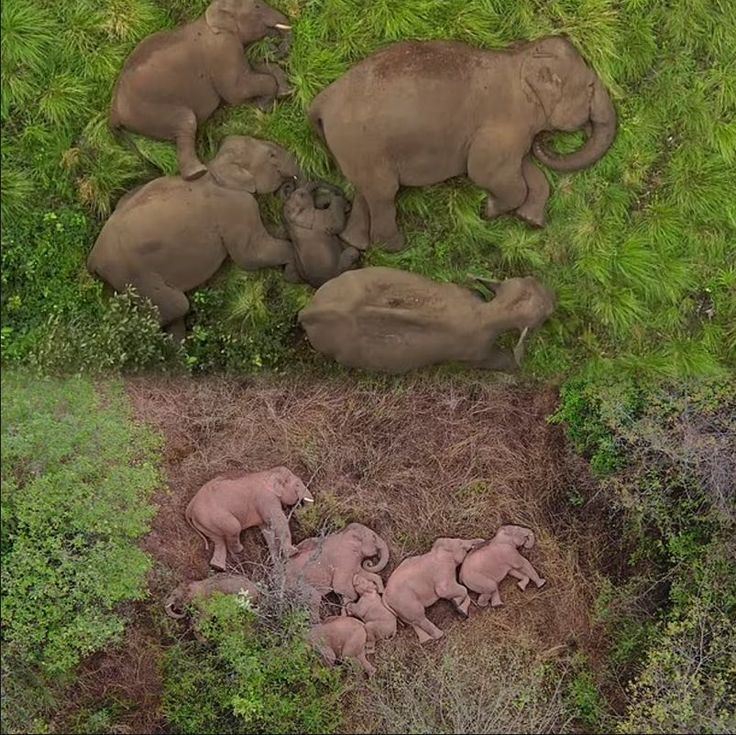Adult Elephant: (331, 4, 620, 250), (308, 249, 557, 375)
Baby Elephant: (80, 134, 301, 334), (121, 0, 299, 189), (179, 462, 318, 567), (388, 533, 483, 646), (168, 563, 263, 655), (290, 516, 386, 604), (275, 183, 358, 284), (462, 518, 548, 608), (297, 616, 375, 679), (349, 566, 401, 637), (80, 231, 100, 240)
